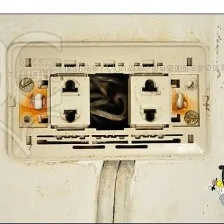three_eye_plug: (1, 38, 212, 162)
